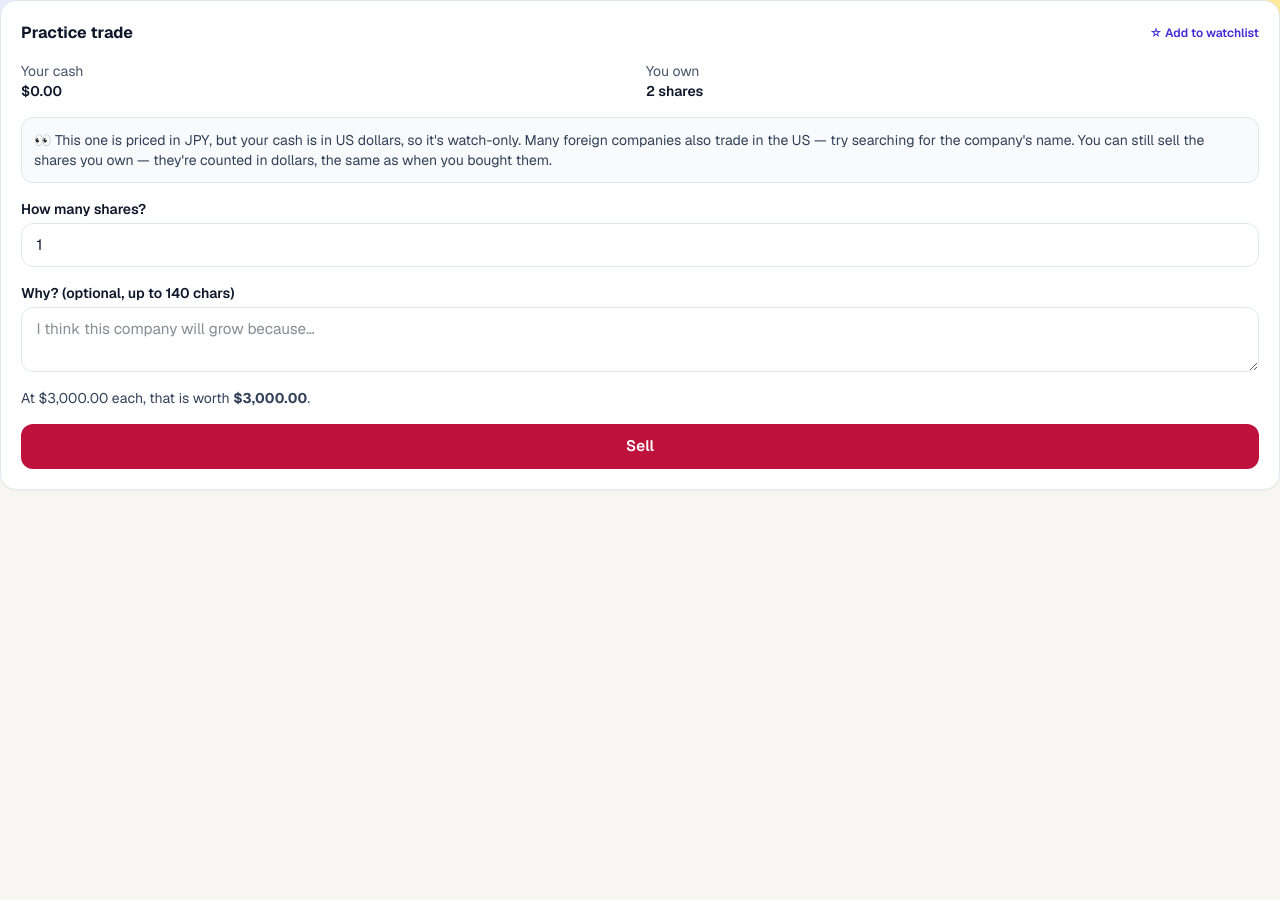
it: TradePanel: what can be traded › still lets a Cub sell a non-dollar stock they already own
Expected: the text "👀 This one is priced in JPY, but your cash is in US dollars, so it's watch-only" is shown, [34,131,1204,169]
What coordinates should you click on to do the following:
click the button "Sell"
I would click on:
 (640, 446)
Its box is [21,424,1259,469].
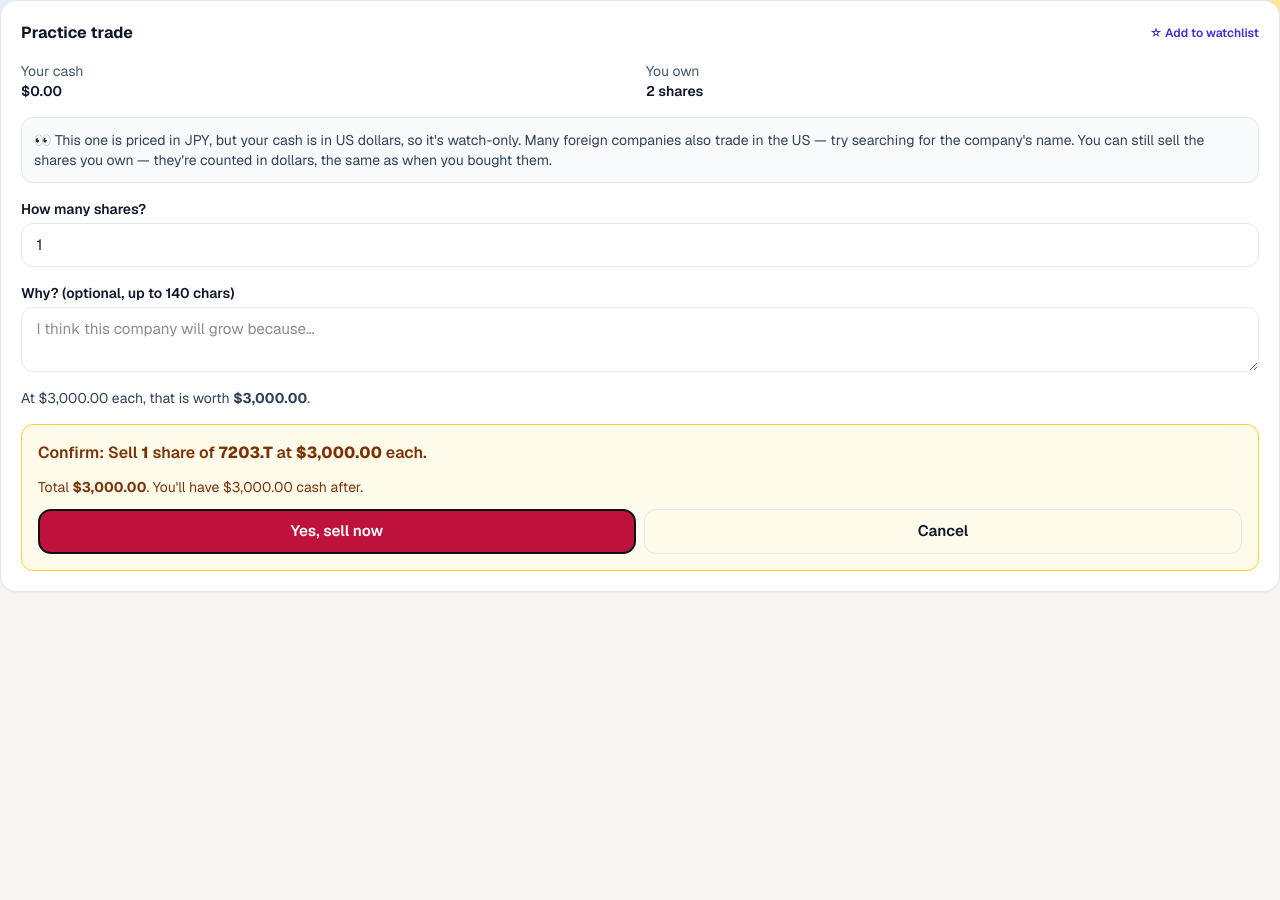
What coordinates should you click on to do the following:
click the button "Yes, sell now"
I would click on:
 (337, 532)
Its box is [38,509,636,554].
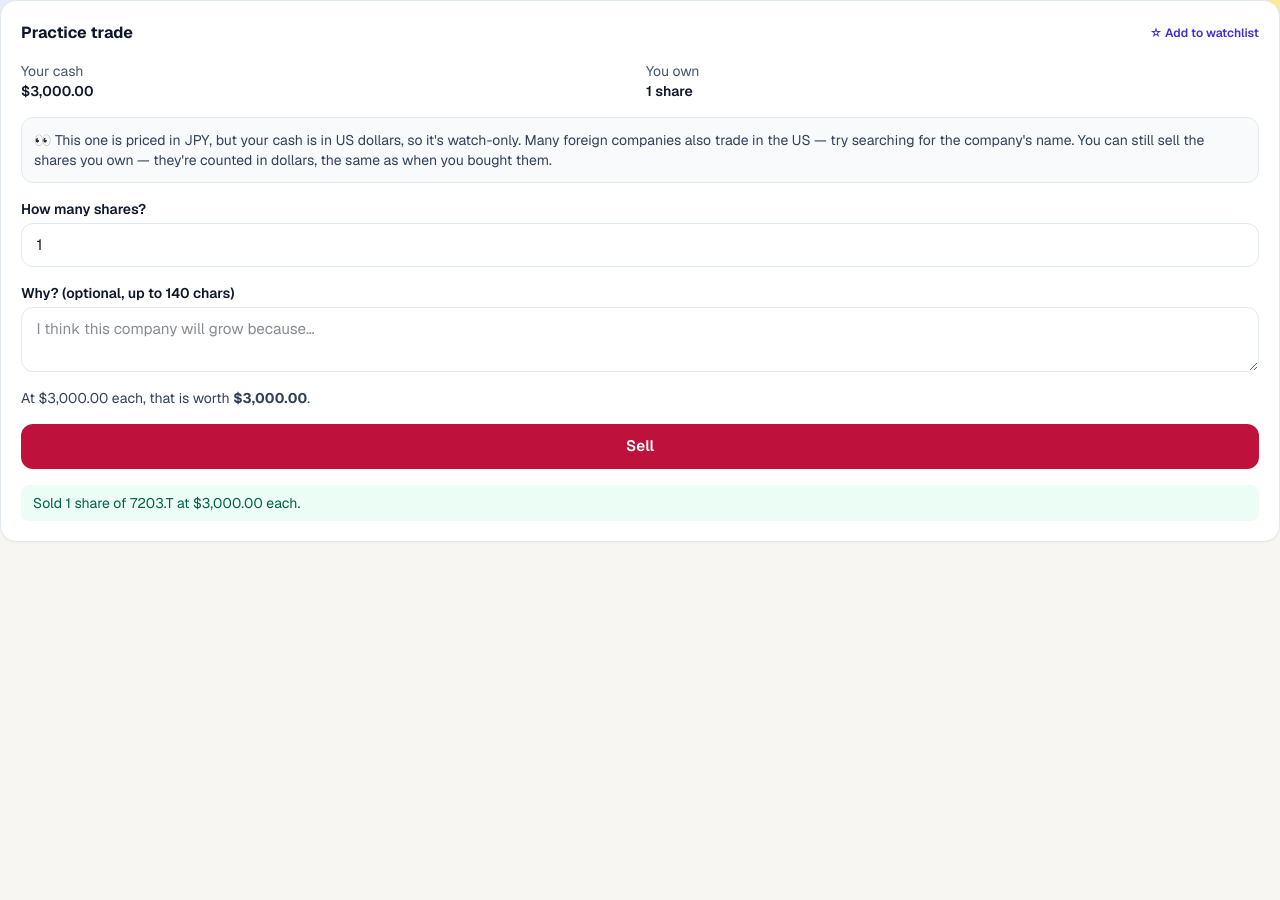
Expected: the text "Sold 1 share of 7203.T at $3,000.00 each." is shown, [21,485,1259,521]
